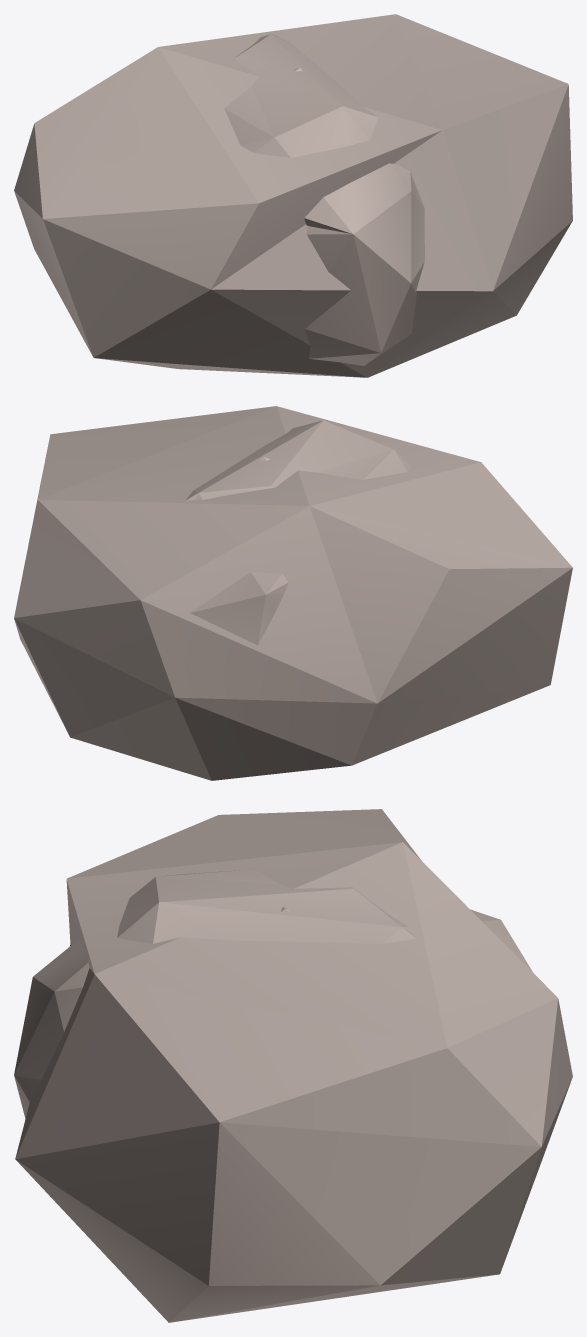
The model's file is Asteroids.fbx.
The picture shows the model from 3 angles, top to bottom: view 1: azimuth 30°, elevation 25°; view 2: azimuth 150°, elevation 25°; view 3: azimuth 270°, elevation 25°; orthographic projection. The views are drawn at different scales.
Parts seen in each view (by area): view 1: thicc, wide; view 2: thicc, wide; view 3: thicc, wide.
Boxes of the visible parts, x1=… form: thicc: x1=14, y1=14, x2=572, y2=377; wide: x1=224, y1=34, x2=424, y2=365; thicc: x1=14, y1=406, x2=572, y2=780; wide: x1=185, y1=420, x2=411, y2=645; thicc: x1=15, y1=809, x2=572, y2=1322; wide: x1=14, y1=869, x2=532, y2=1118.
Size of what is drawn, in the model's own units: 198 by 102 by 148.
Materials: 1 (1 with a texture image).
